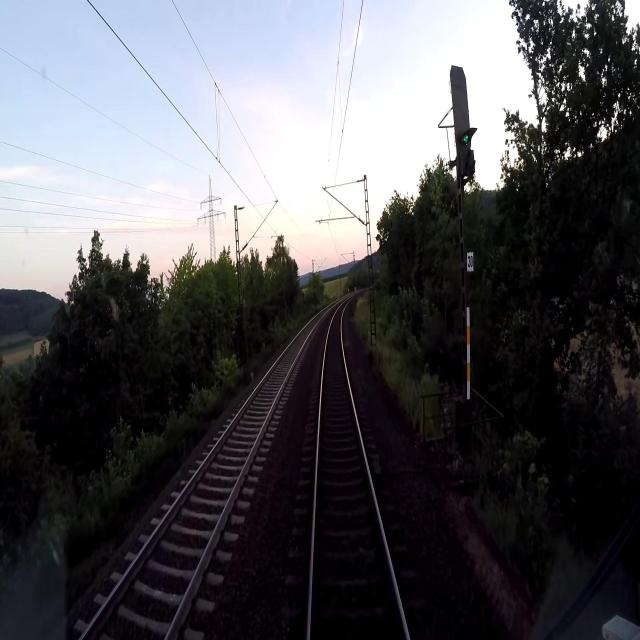rail-track: (84, 311, 324, 639), (310, 302, 405, 639)
